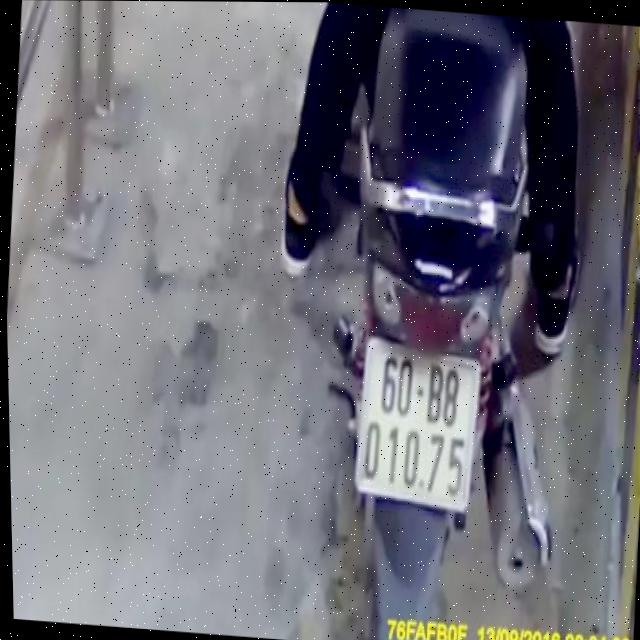motorcycle: (277, 21, 603, 640)
plate: (345, 332, 491, 515)
